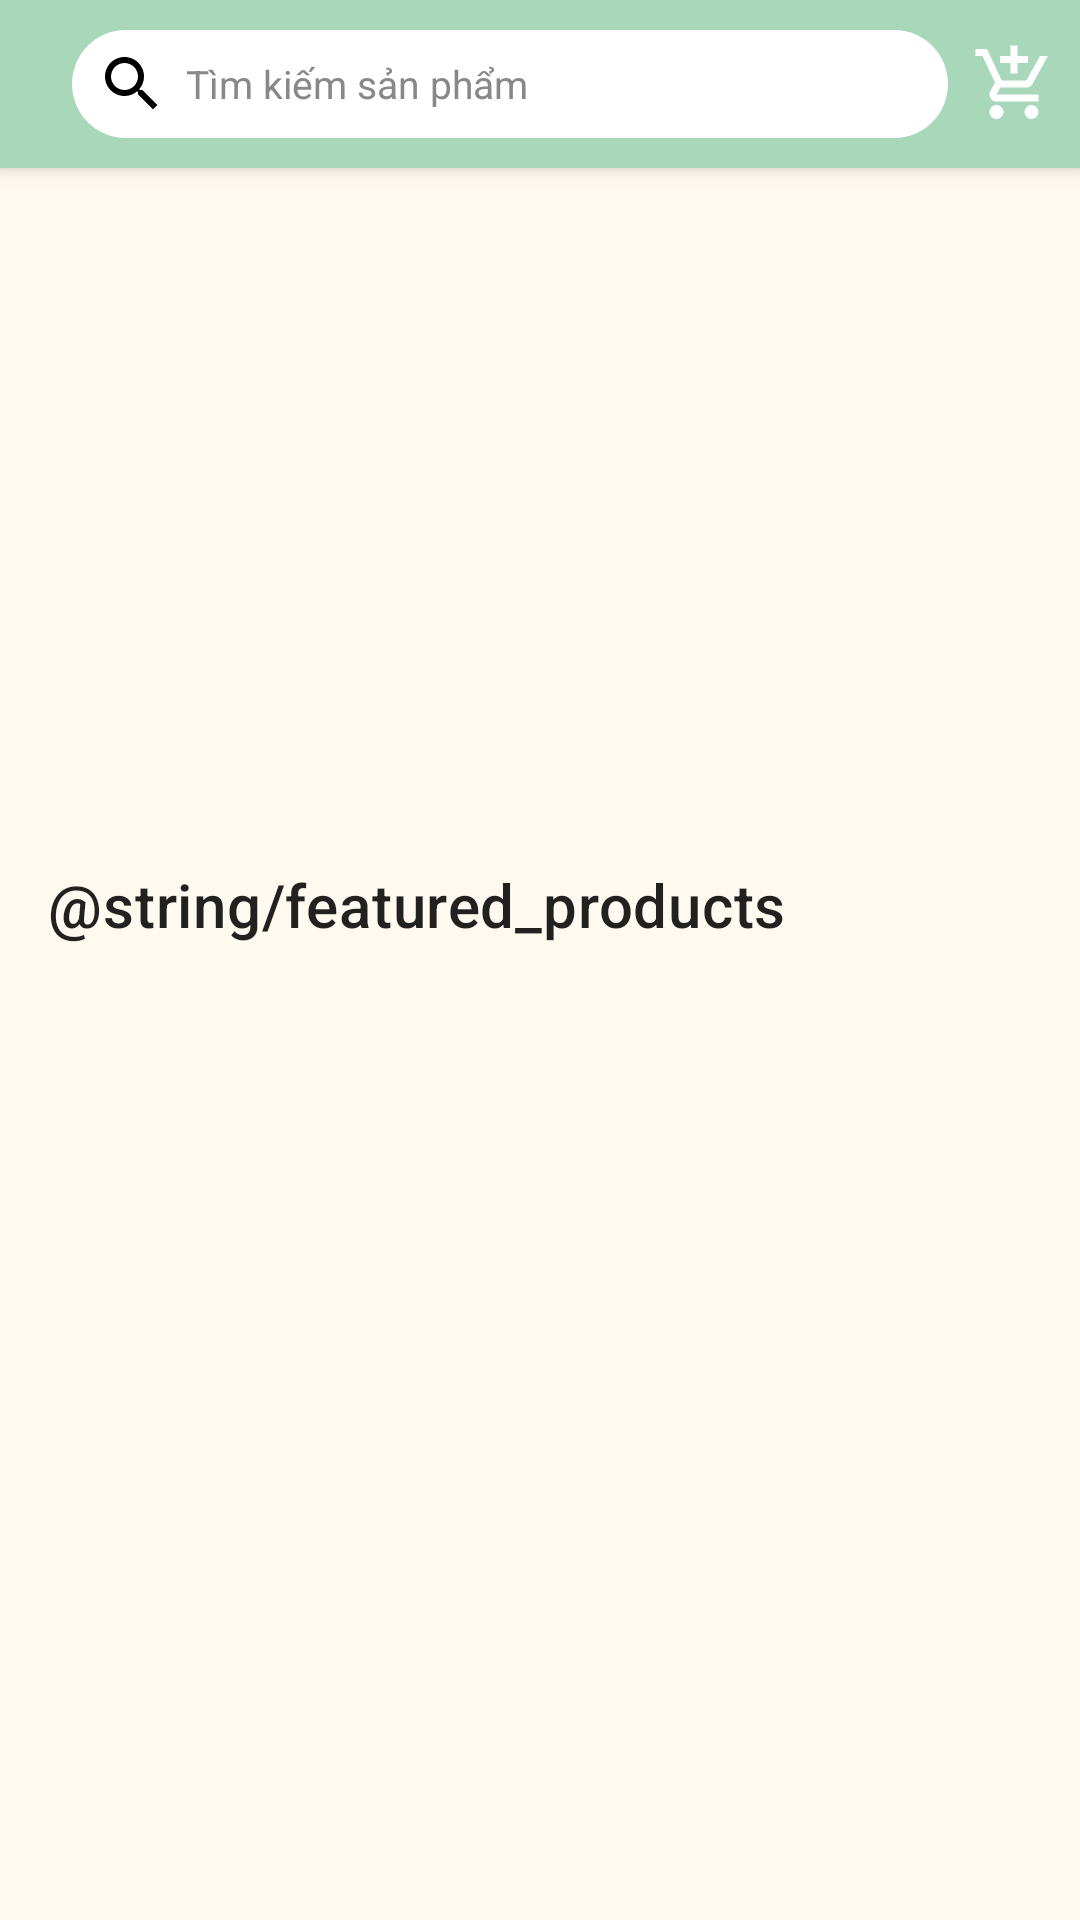

Icon bounding boxes for this 1080×1920 phone screenshot, format (x1, y1, x2, y2):
Giỏ hàng: (975, 45, 1048, 119)
